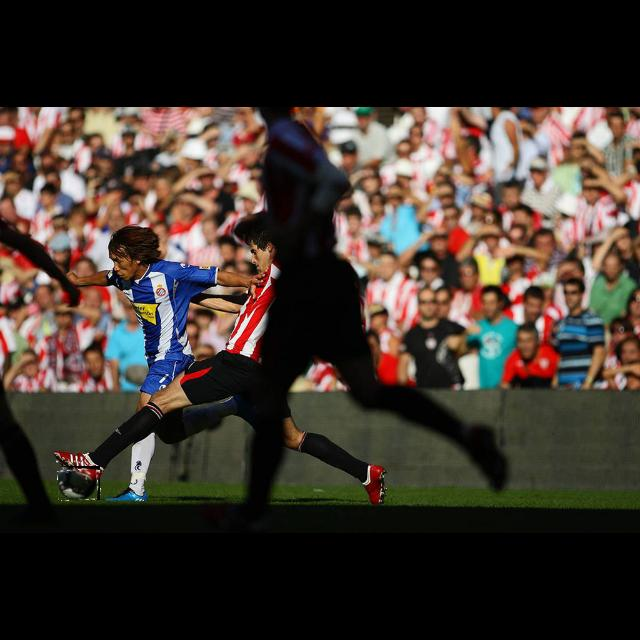Football: (58, 466, 100, 500)
